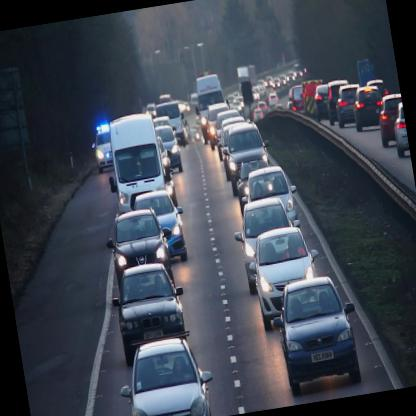car: (266, 270, 366, 398), (106, 258, 193, 368), (244, 222, 327, 331), (113, 333, 219, 415), (229, 193, 309, 296), (102, 204, 180, 294), (132, 188, 192, 268), (219, 119, 276, 198), (237, 163, 302, 232), (349, 84, 388, 134), (374, 93, 408, 148), (154, 126, 186, 176), (332, 82, 366, 128), (204, 100, 235, 150), (323, 79, 354, 127), (388, 102, 410, 160), (90, 130, 116, 173), (312, 82, 334, 122)
truck: (100, 110, 171, 211), (192, 71, 230, 142), (154, 98, 186, 152)
